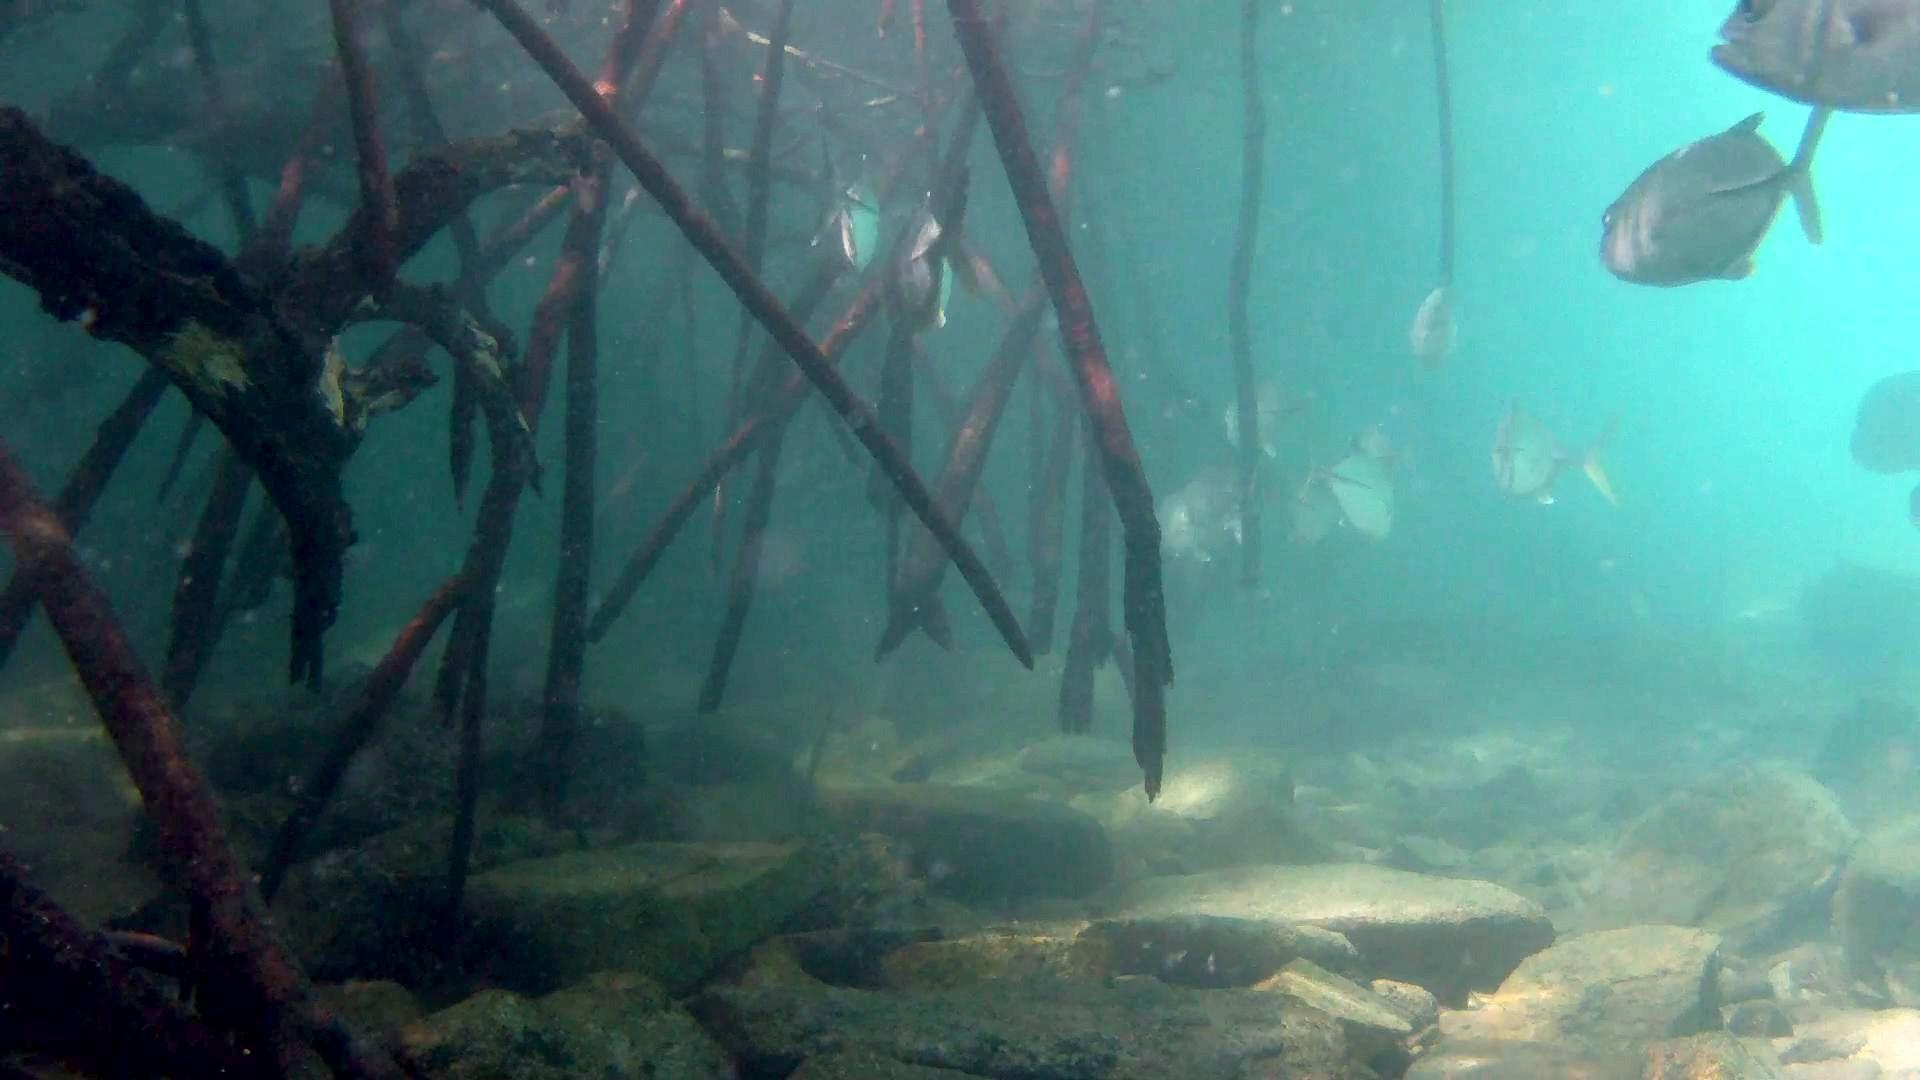caranx: (1582, 98, 1847, 302), (1691, 0, 1920, 125), (876, 150, 1004, 344)
